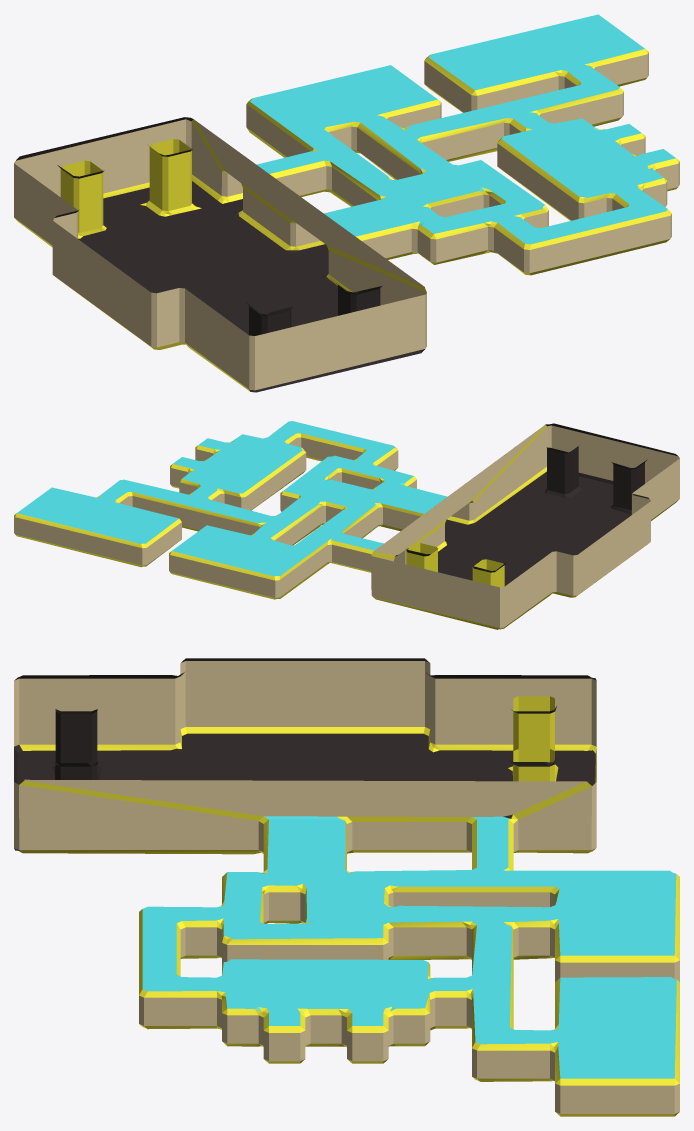
File: dungeon-floorplan.glb
3 views of the same model, one above another, from view 1: azimuth 30°, elevation 25°; view 2: azimuth 150°, elevation 25°; view 3: azimuth 270°, elevation 25° (orthographic). The views are drawn at different scales.
Visible parts, largest first — view 1: dungeon_floorplan.1; view 2: dungeon_floorplan.1; view 3: dungeon_floorplan.1.
Boxes of the visible parts, x1,y1,x2,y2 form: dungeon_floorplan.1: (14, 14, 679, 392); dungeon_floorplan.1: (14, 421, 679, 629); dungeon_floorplan.1: (14, 658, 679, 1116).
Size of the model in its own units: 2200 by 200 by 1600.
